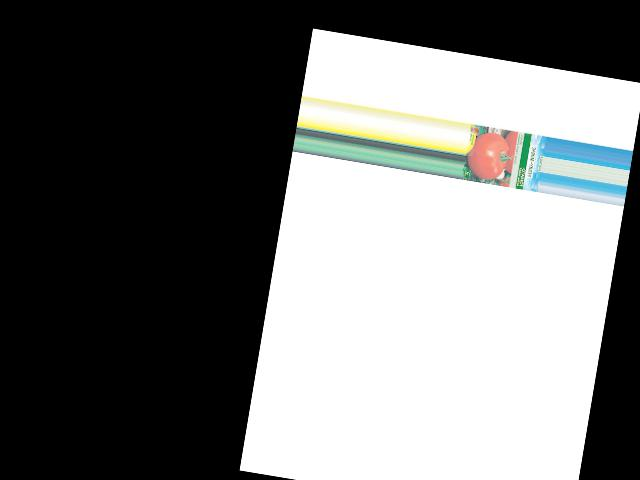tomato: (464, 129, 510, 182)
